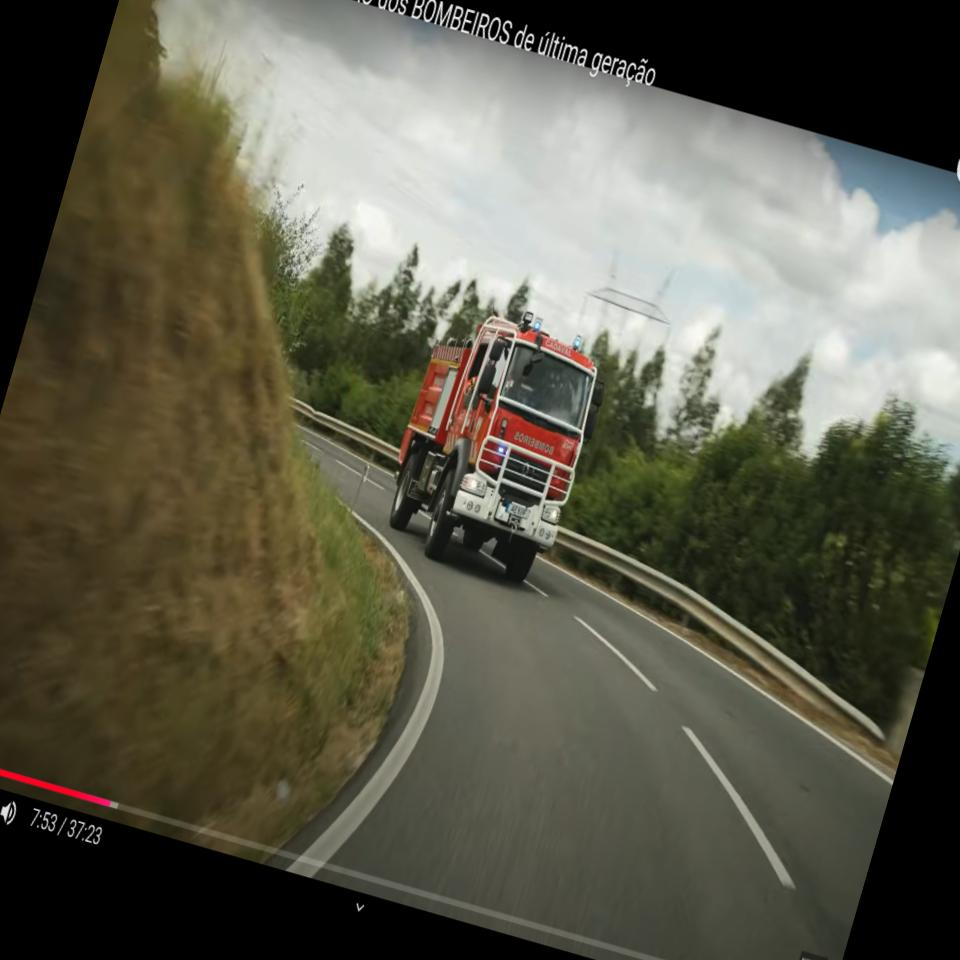viatura: (372, 286, 622, 594)
